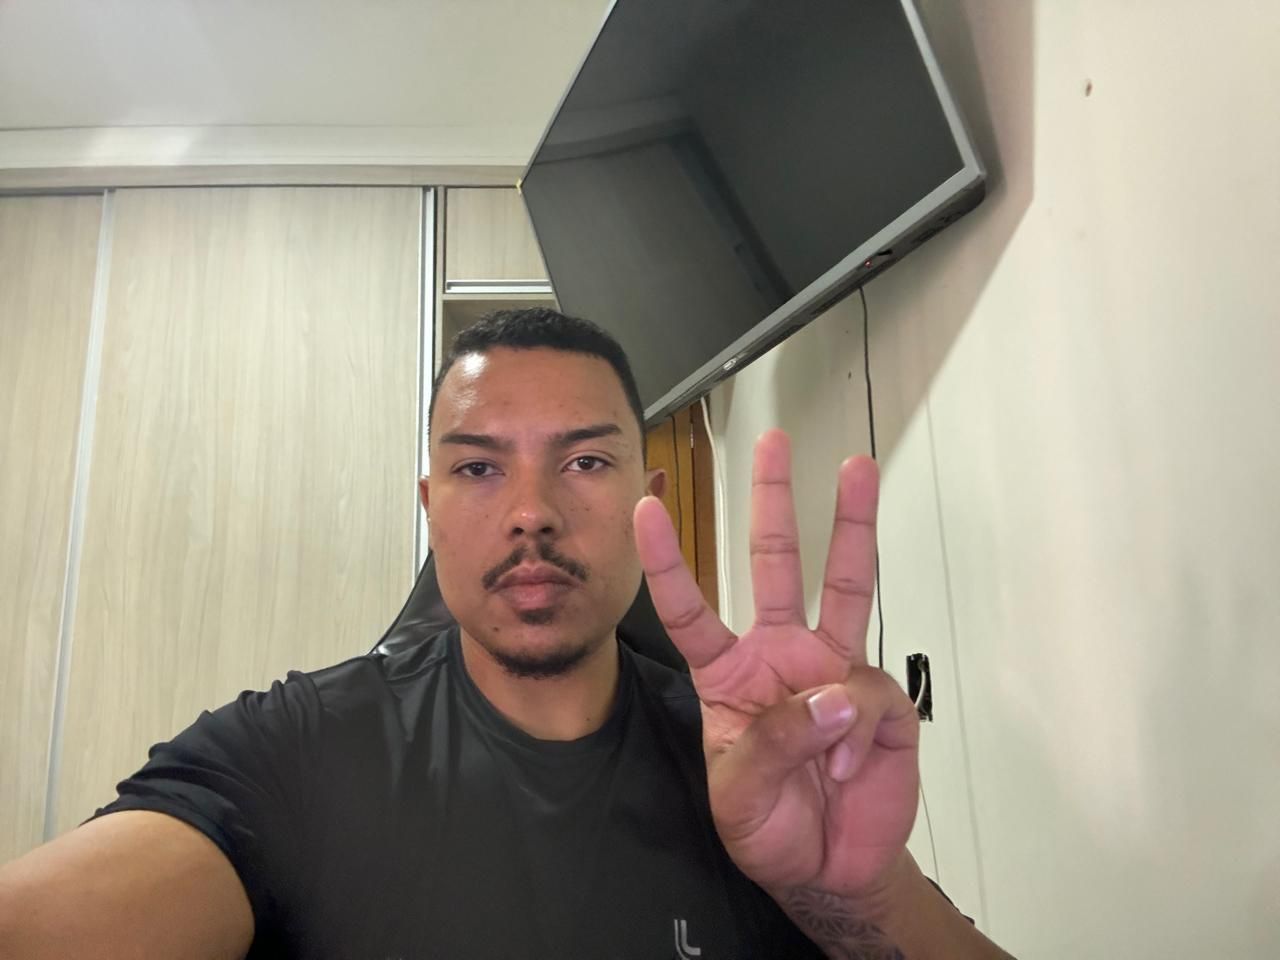w: (626, 414, 933, 896)
